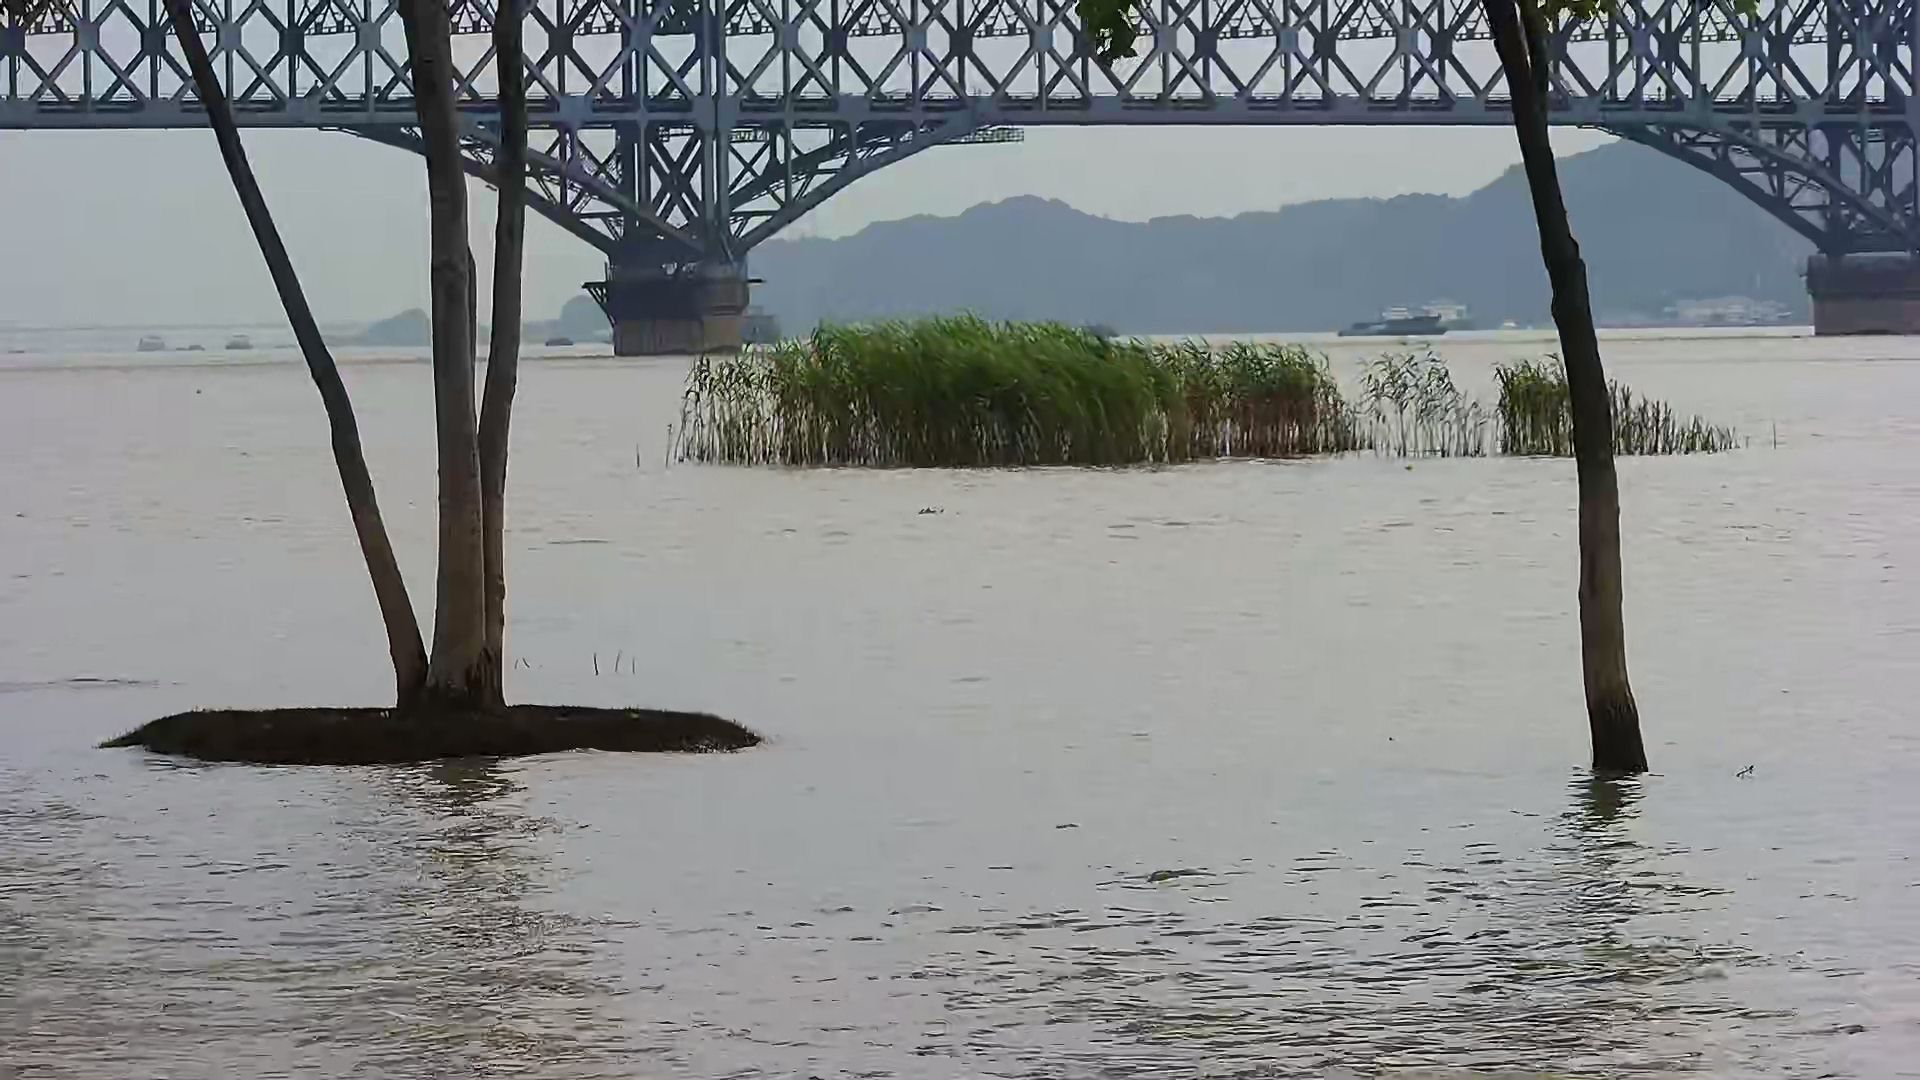bridge: (1, 3, 1919, 351)
grass: (666, 319, 1745, 463)
tree: (102, 1, 757, 760), (1493, 1, 1647, 774)
